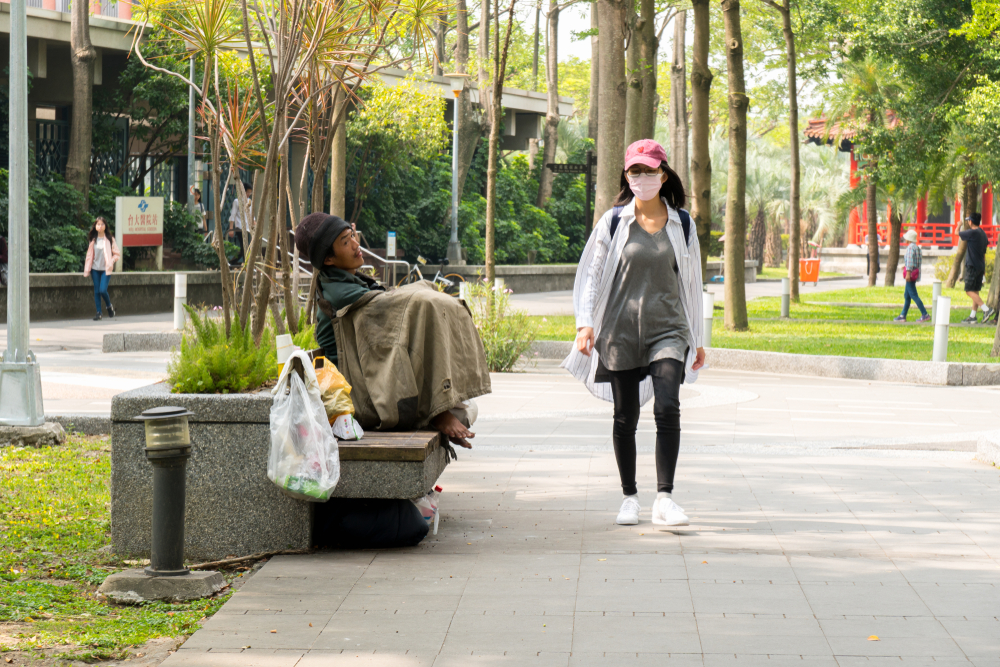people: (574, 140, 706, 531), (293, 213, 481, 449), (84, 217, 119, 323), (955, 214, 989, 323), (896, 230, 930, 323), (226, 183, 258, 265), (182, 187, 207, 238)
